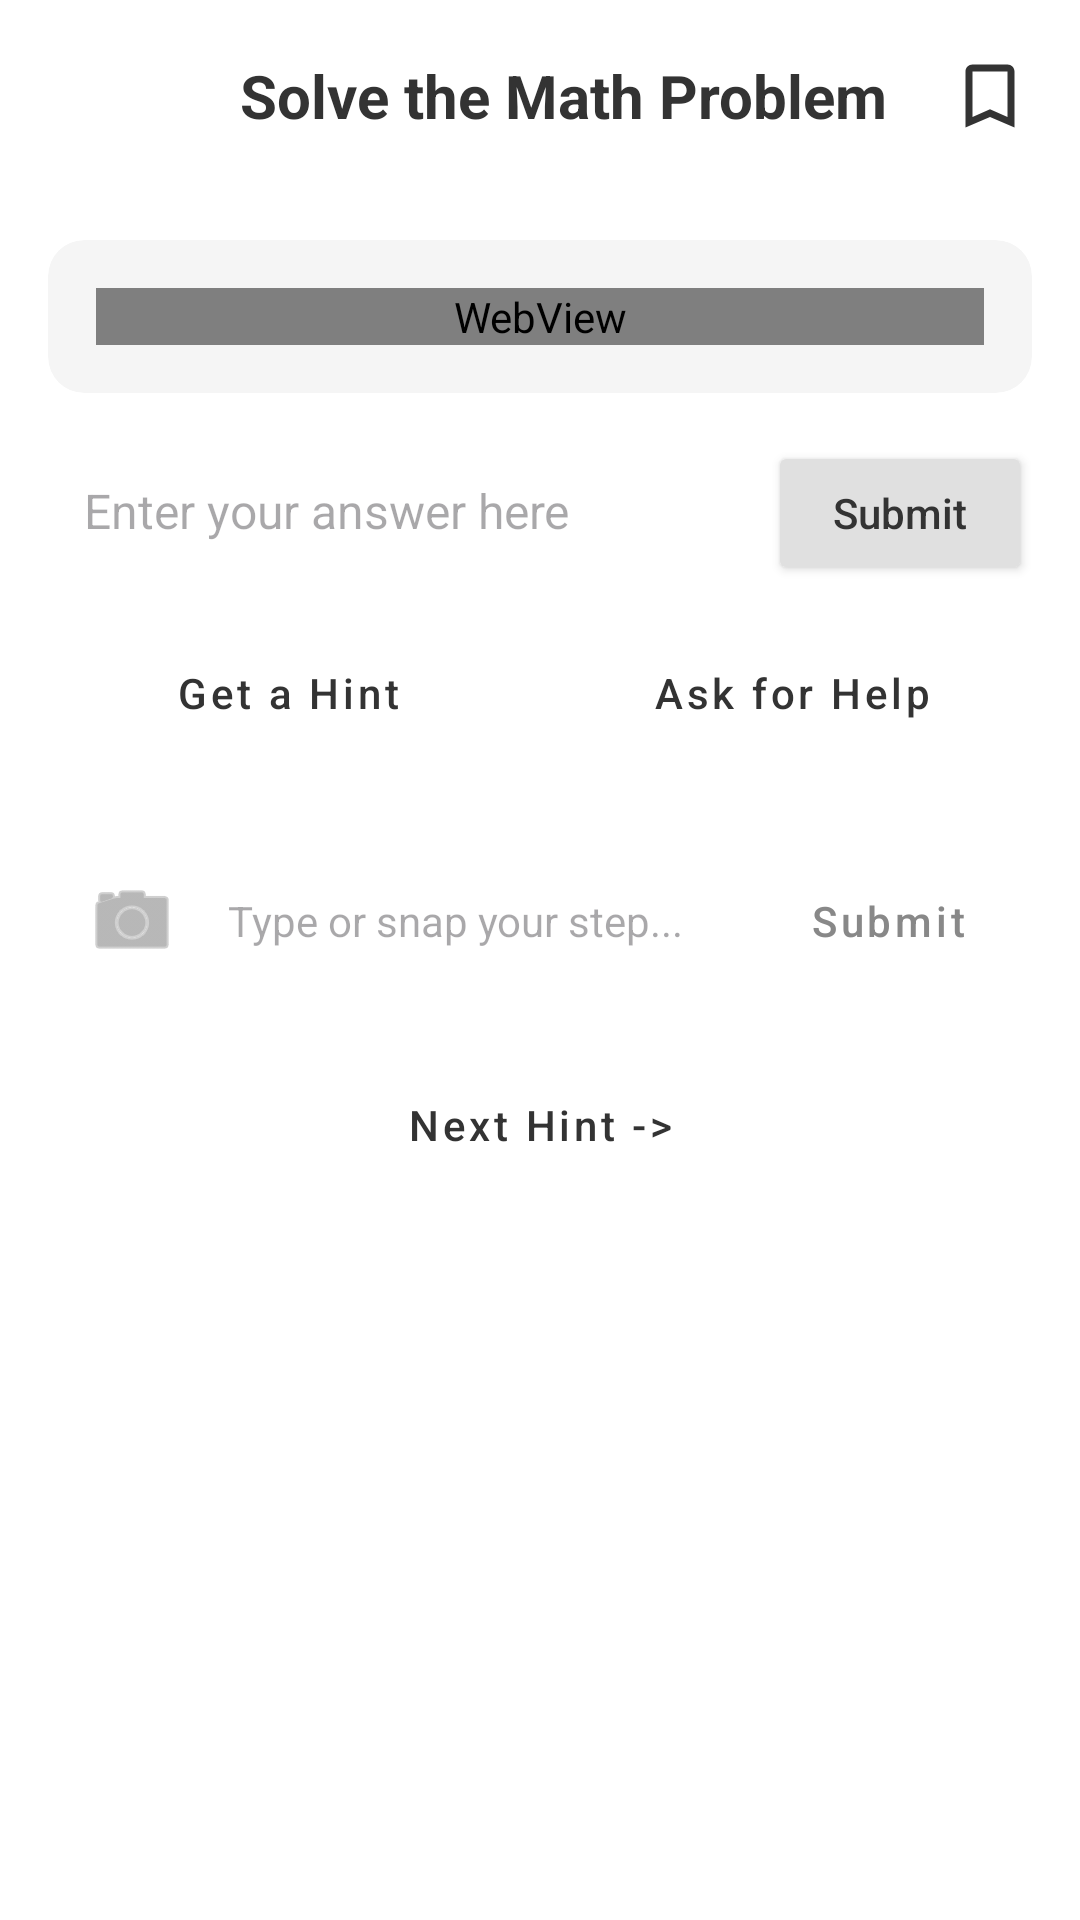

Screen size 1080 × 1920. Icon name, then its center in pixels as point (x, y):
bookmark border: point (990, 96)
Take photo of handwritten work: point (132, 919)
